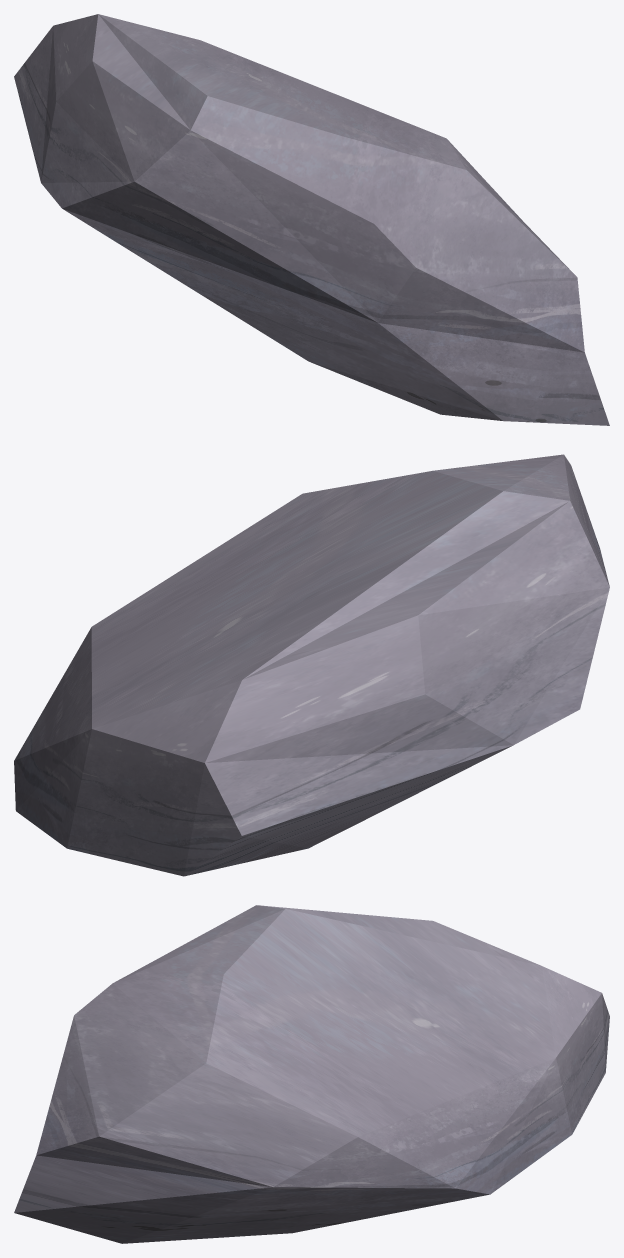
The model's file is rock_2_003.fbx.
3 renders of one model, top to bottom at view 1: azimuth 30°, elevation 25°; view 2: azimuth 150°, elevation 25°; view 3: azimuth 270°, elevation 25°, orthographic. The views are drawn at different scales.
Parts seen in each view (by area): view 1: rock 2.003; view 2: rock 2.003; view 3: rock 2.003.
Part boxes in pixels (x1,y1,x2,y2): rock 2.003: (14, 14, 609, 425); rock 2.003: (14, 454, 609, 876); rock 2.003: (14, 905, 609, 1243).
Bounding box in the file's own units: 292 × 201 × 455.
